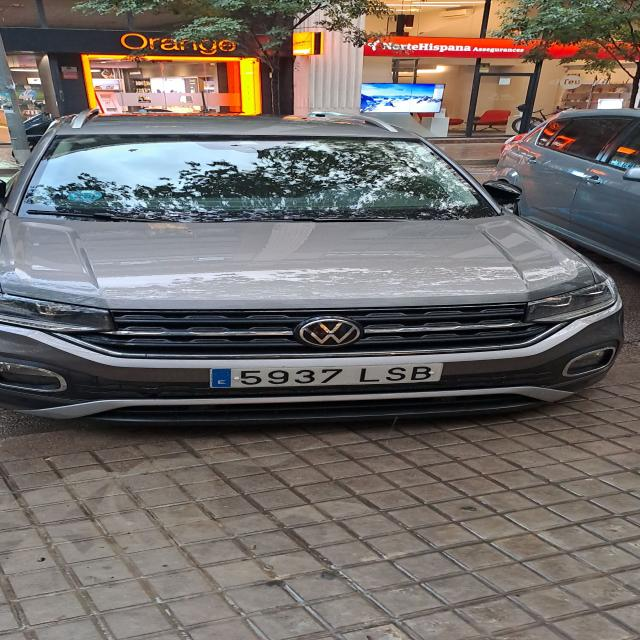license_plate-34Td: (210, 363, 443, 389)
